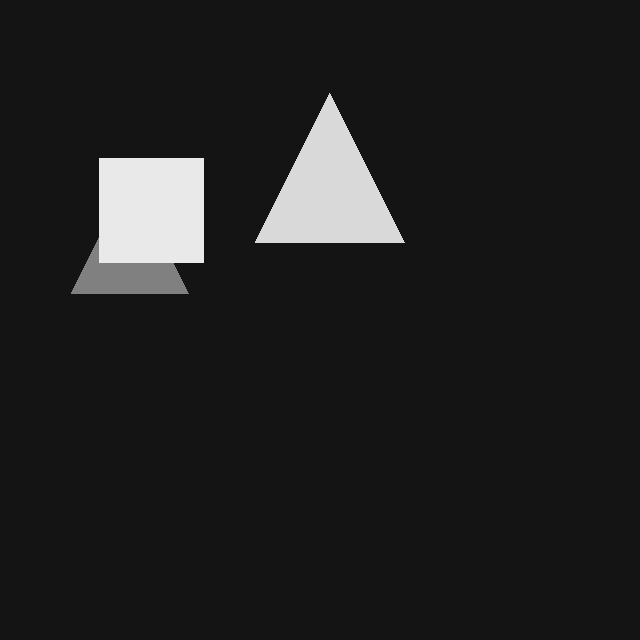square: (99, 158, 203, 262)
triangle: (255, 93, 404, 242), (71, 176, 188, 293)
